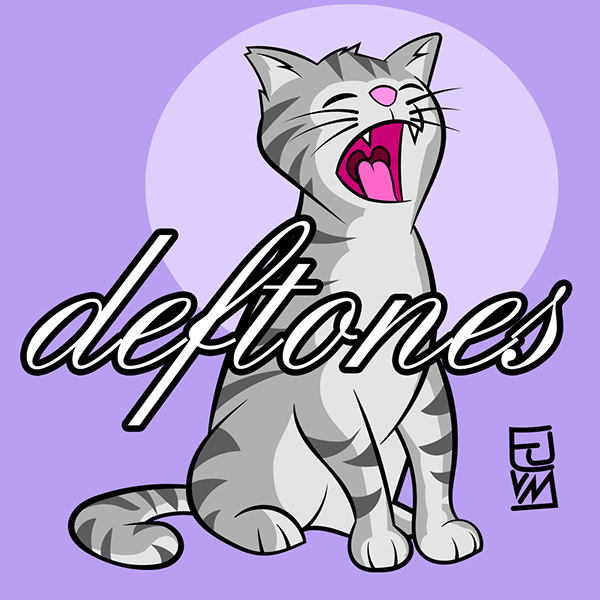cat: (63, 28, 499, 575)
